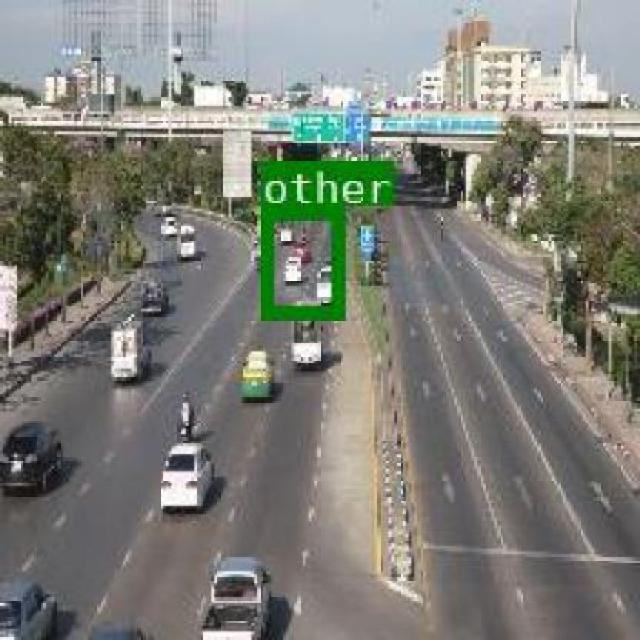other: (258, 202, 342, 316)
